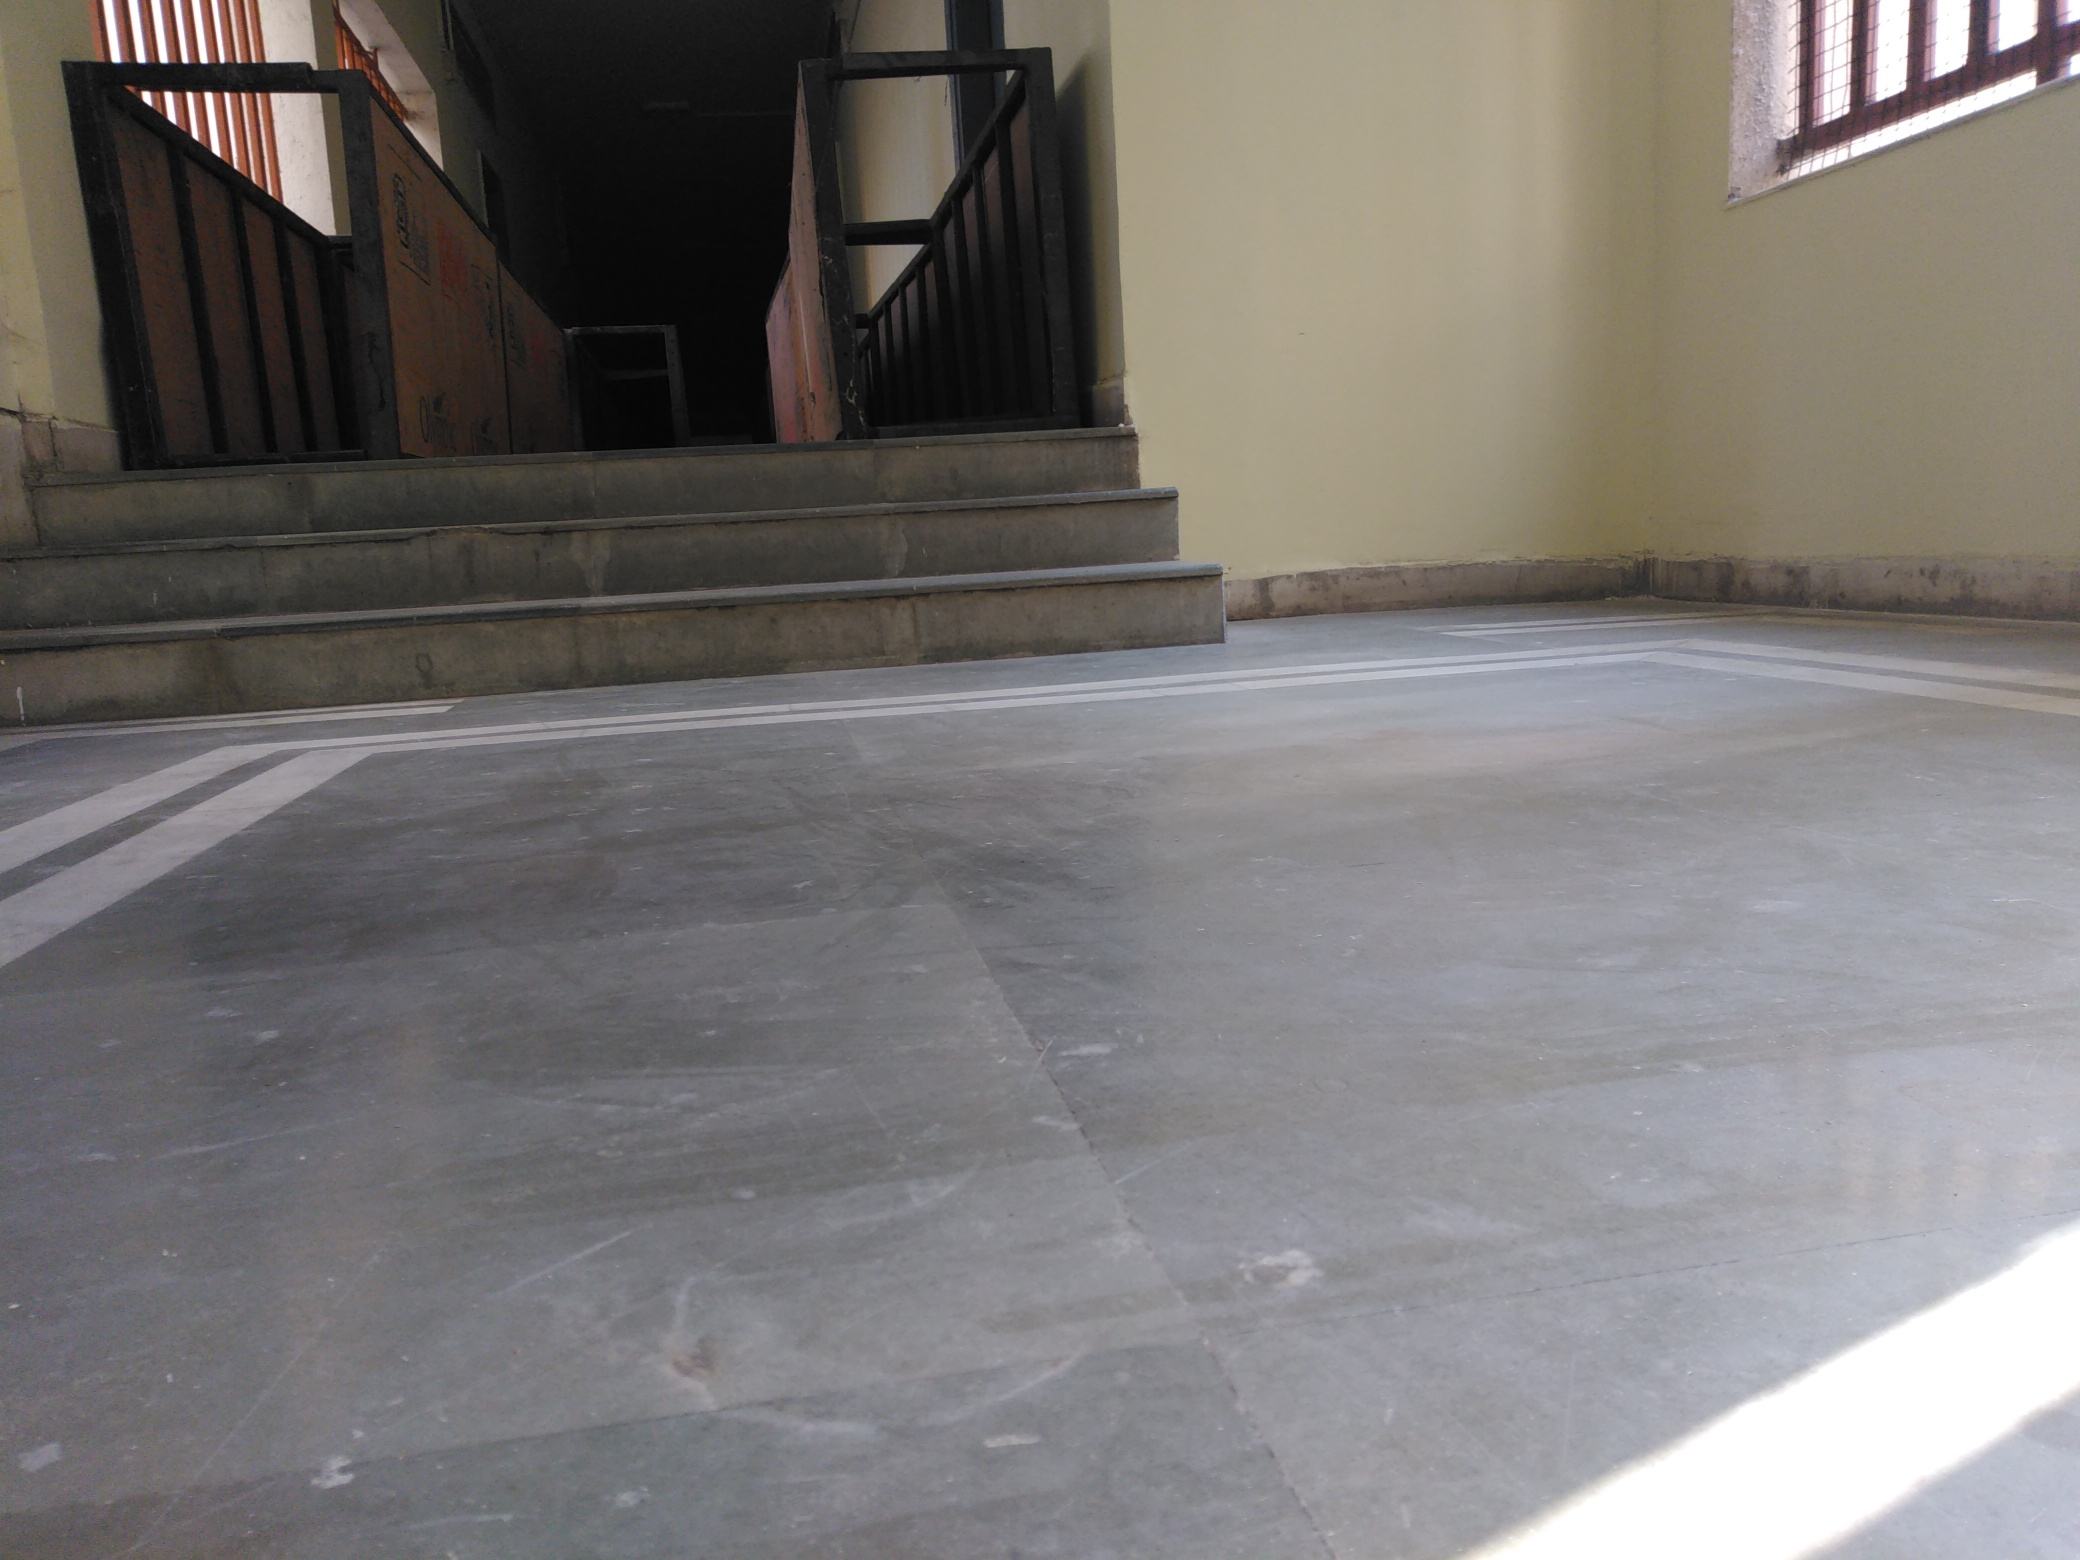stairs_up: (2, 447, 1201, 692)
